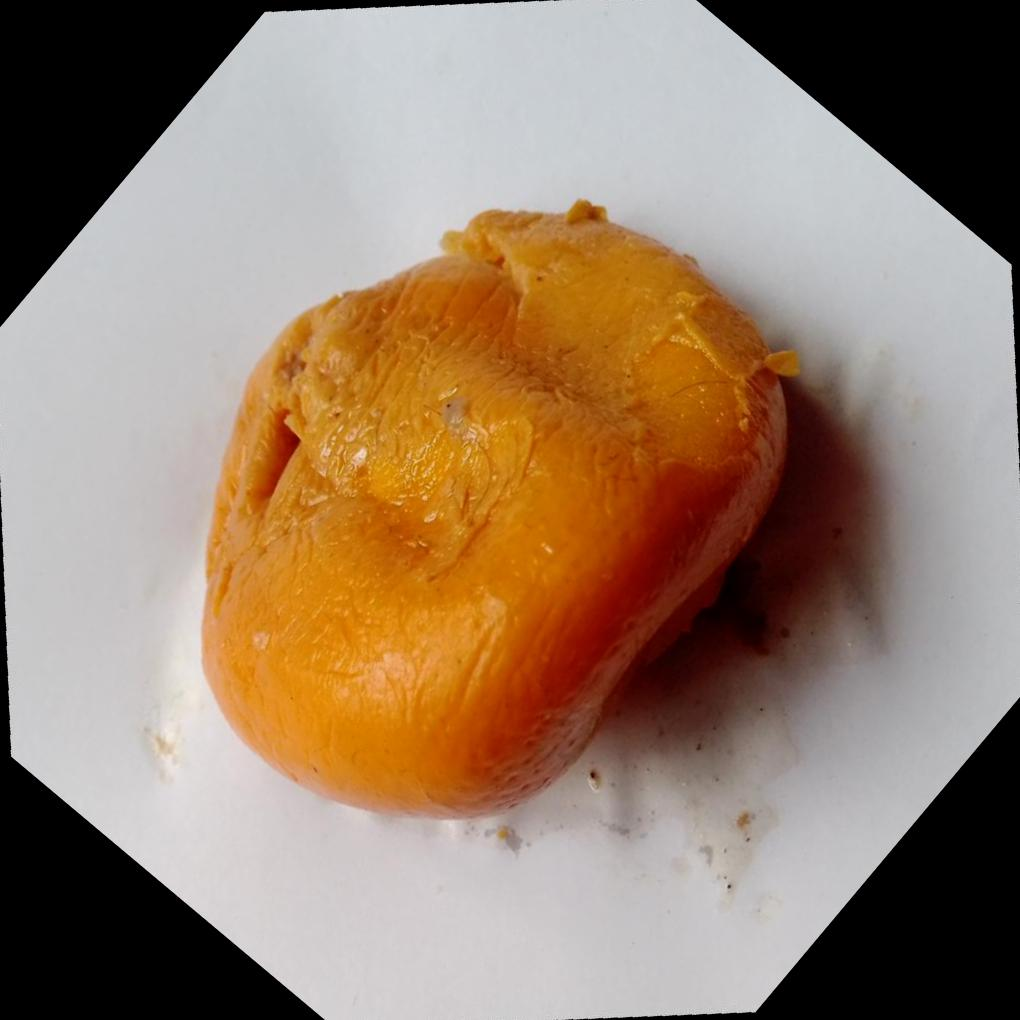FreshOrange: (196, 195, 801, 821)
